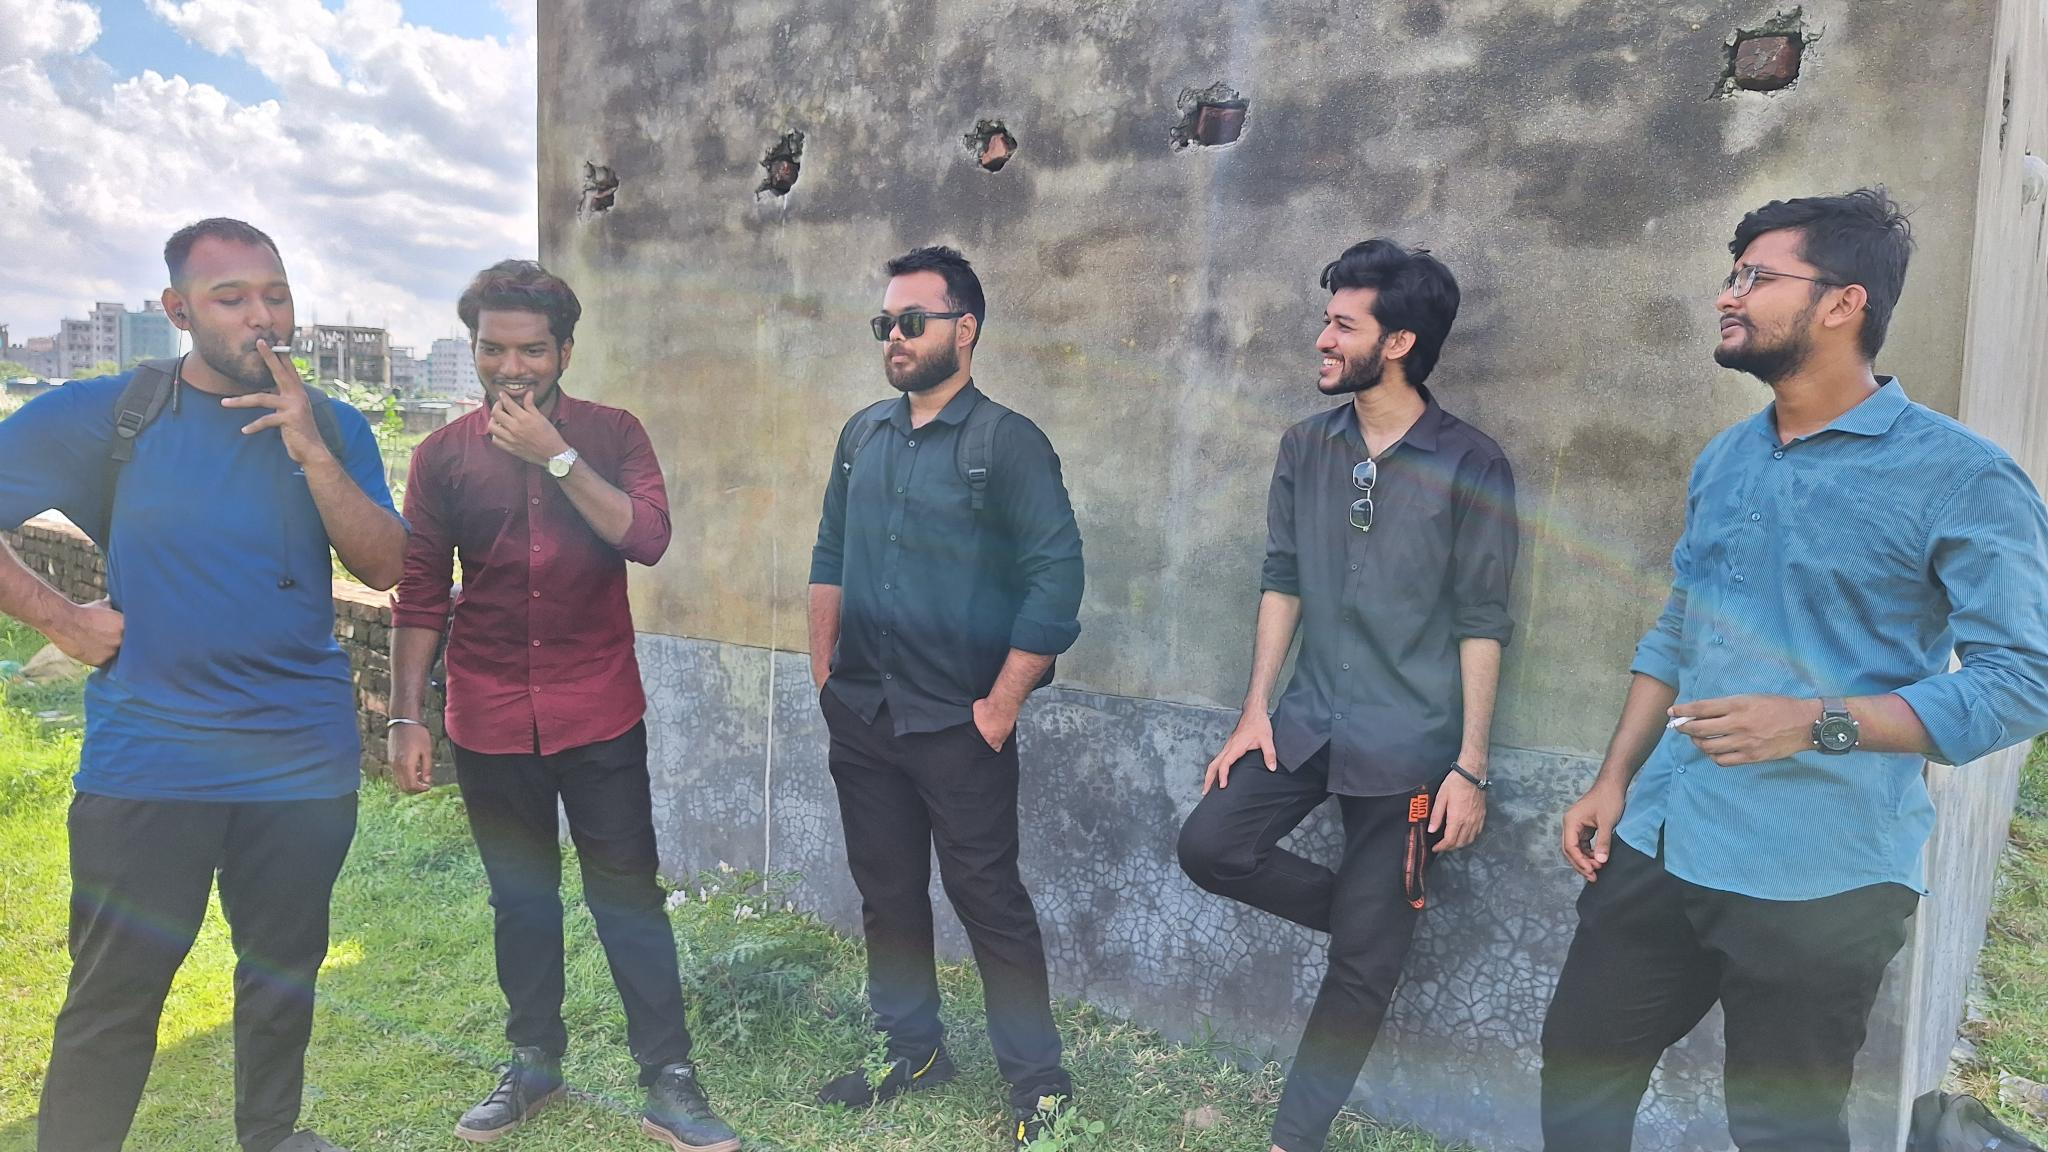cigarette: (1663, 710, 1701, 733), (269, 343, 295, 354)
nonSmoker: (1167, 241, 1519, 1152), (385, 262, 743, 1152), (805, 246, 1084, 1152)
smoker: (1532, 191, 2048, 1152), (0, 217, 409, 1152)
